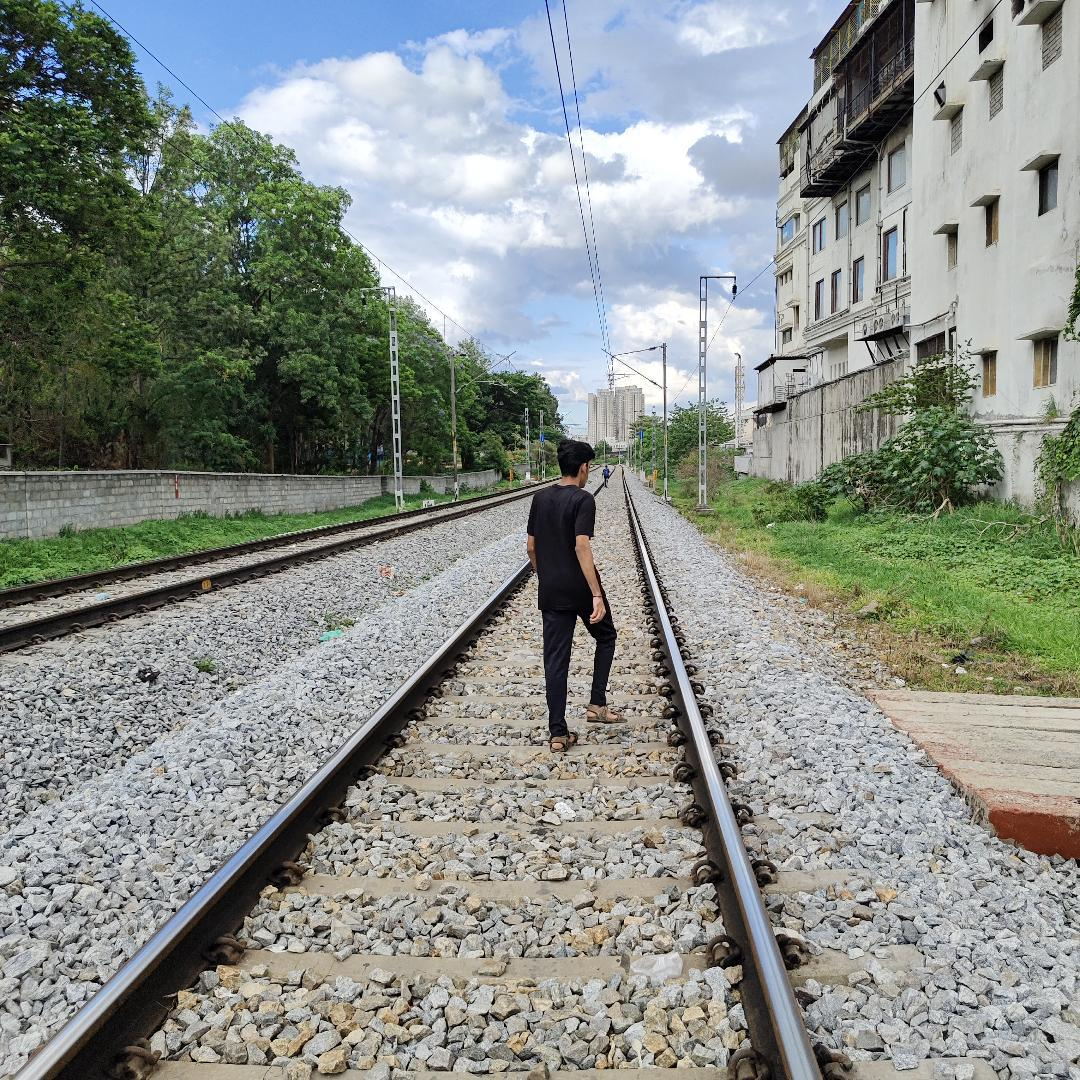standing: (511, 430, 625, 752)
